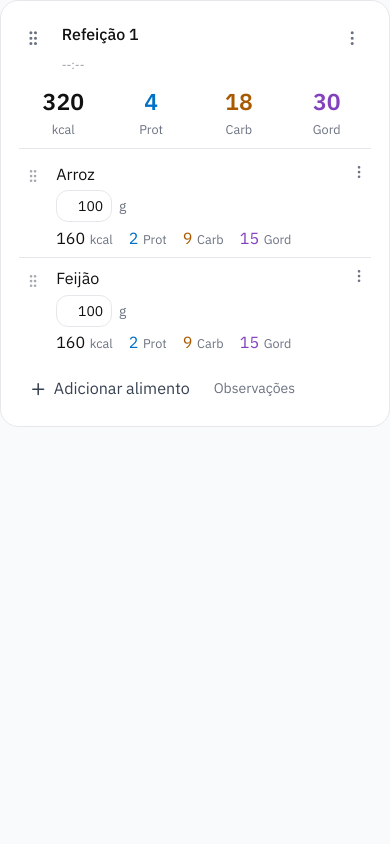
transformar em 1 alimento › abre um formulário pedindo o nome do novo alimento
Click the button named "Mais ações para Refeição 1". click: (352,38)
box: [334,19,371,56]
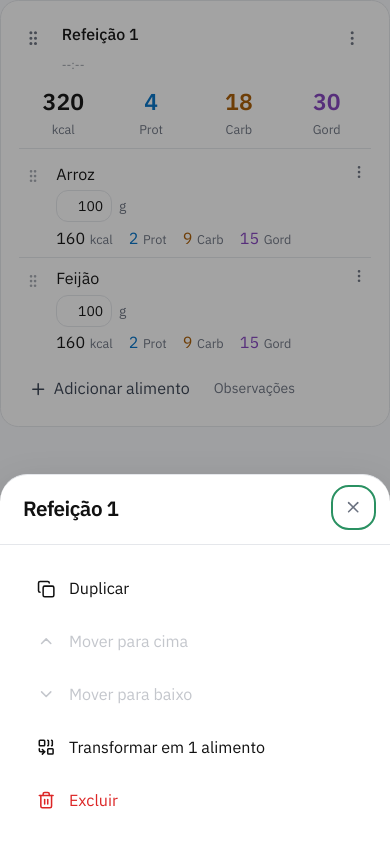
Click the button "Transformar em 1 alimento". click: (195,747)
box: [23,722,367,773]
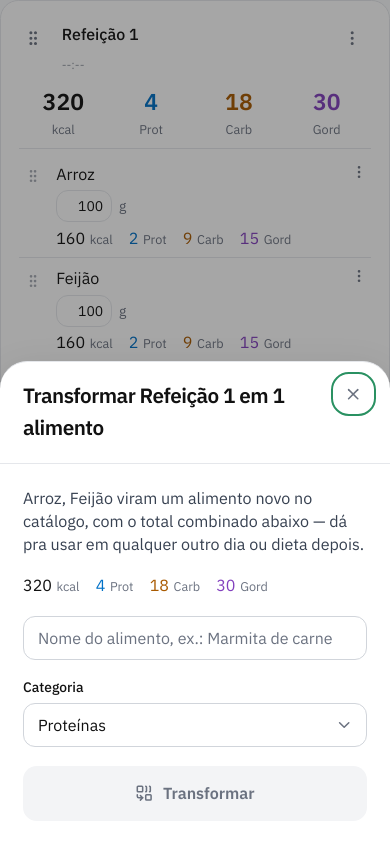
Now the heading "Transformar Refeição 1 em 1 alimento" is shown, box [23,380,321,445]
